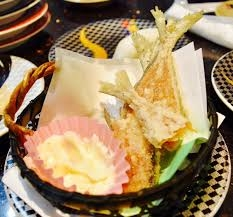kitchen_waste: (100, 71, 197, 149), (143, 5, 205, 120), (99, 105, 156, 196)
paper: (19, 113, 136, 204)
